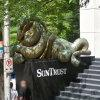Statue: (14, 12, 85, 75)
